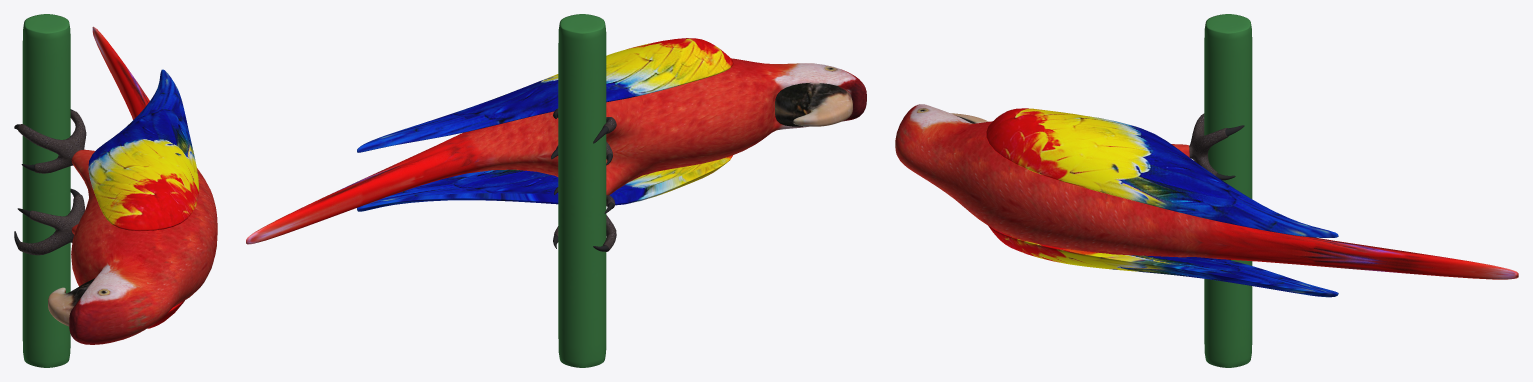
The model's file is 10032_Parrot_V1_L3.obj.
3 renders of one model, left to right at view 1: azimuth 30°, elevation 25°; view 2: azimuth 150°, elevation 25°; view 3: azimuth 270°, elevation 25°, orthographic.
Parts seen in each view (by area): view 1: 10032_Parrot_V1; view 2: 10032_Parrot_V1; view 3: 10032_Parrot_V1.
Part boxes in pixels (bbox=[...]): 10032_Parrot_V1: bbox=[14, 14, 217, 367]; 10032_Parrot_V1: bbox=[246, 14, 866, 367]; 10032_Parrot_V1: bbox=[895, 14, 1518, 367].
Bounding box in the file's own units: 27.66 × 27.76 × 46.6.
Materials: 1 (1 with a texture image).
